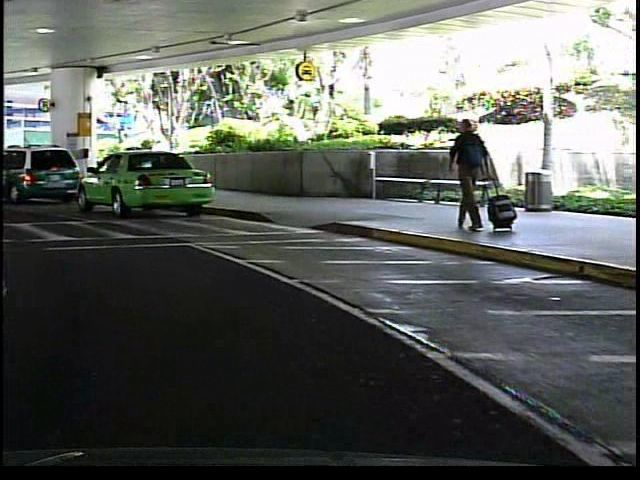person: (440, 112, 495, 243)
